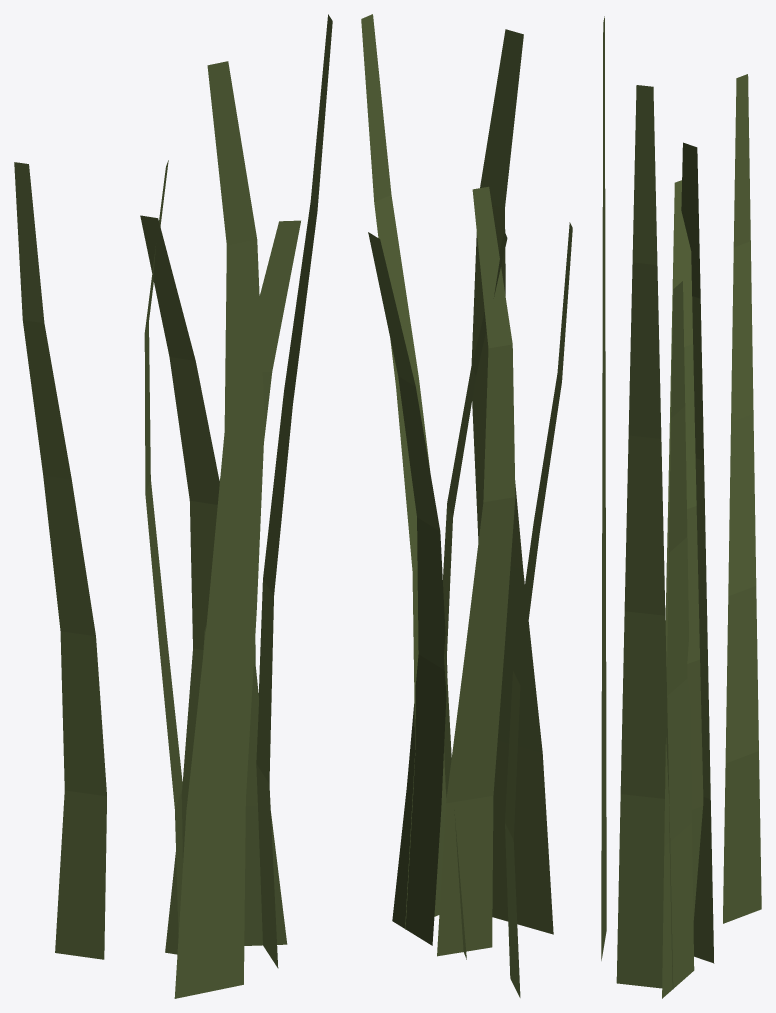
Rendered from alga.glb.
The picture shows the model from 3 angles, left to right: view 1: azimuth 30°, elevation 25°; view 2: azimuth 150°, elevation 25°; view 3: azimuth 270°, elevation 25°; orthographic projection. The views are drawn at different scales.
Parts seen in each view (by area): view 1: alga; view 2: alga; view 3: alga.
Part boxes in pixels (x1,y1,x2,y2): alga: (14,14,332,998); alga: (361,14,572,997); alga: (601,16,761,998).
Bounding box in the file's own units: 6.17 × 20.47 × 3.19.
